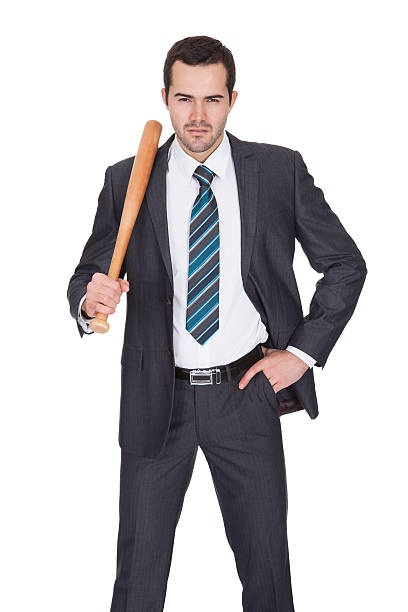bita: (76, 114, 161, 338)
